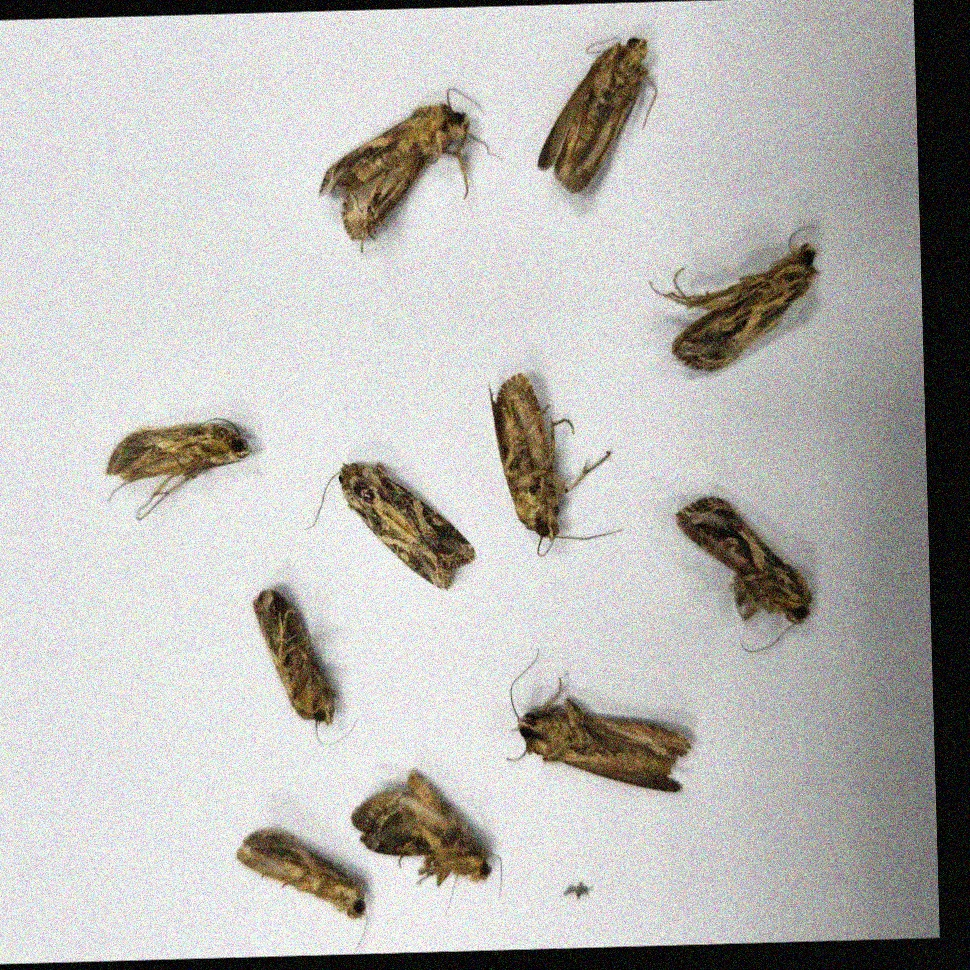Spodoptera litura: (316, 87, 503, 253), (504, 645, 691, 795), (648, 226, 821, 373), (489, 370, 622, 556), (350, 768, 502, 917), (303, 460, 474, 592), (677, 494, 811, 652), (533, 34, 658, 194), (236, 825, 367, 954), (253, 587, 357, 747), (105, 418, 250, 519)
